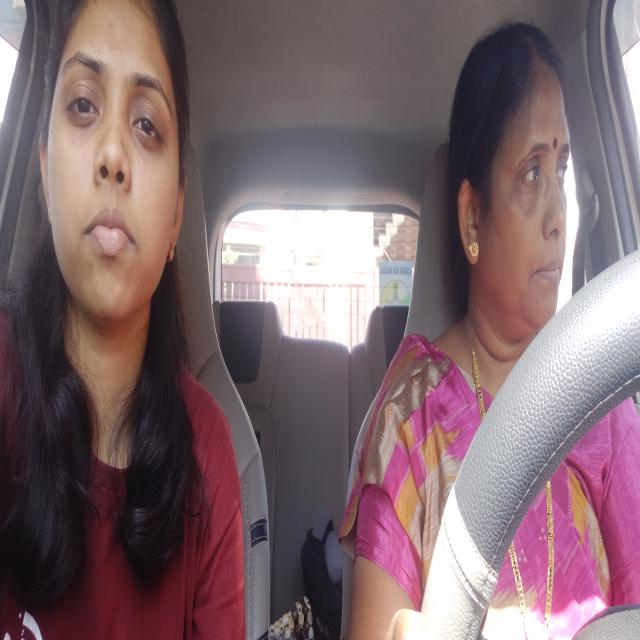LeftRight: (446, 20, 574, 336)
person: (36, 0, 192, 329)
